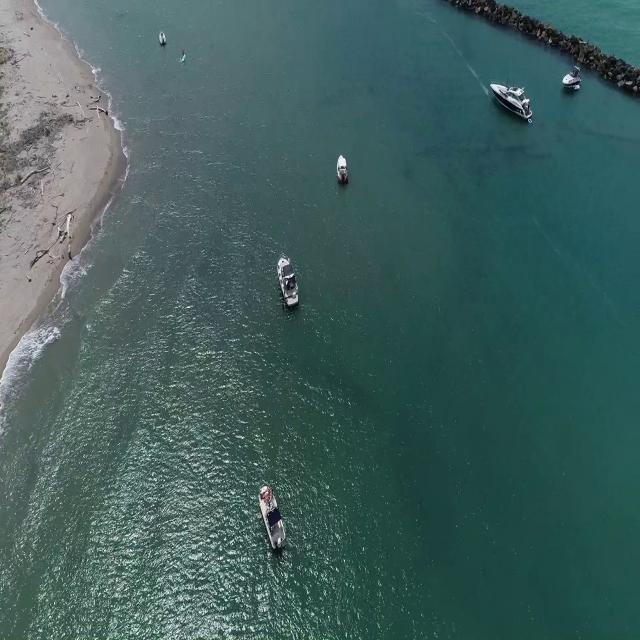boat: (491, 82, 536, 127), (260, 483, 285, 549), (278, 250, 300, 308), (561, 66, 586, 93), (338, 150, 352, 186), (158, 29, 167, 45)
person: (180, 43, 187, 55)
surfboard: (182, 53, 188, 66)
wood: (32, 214, 74, 260)
